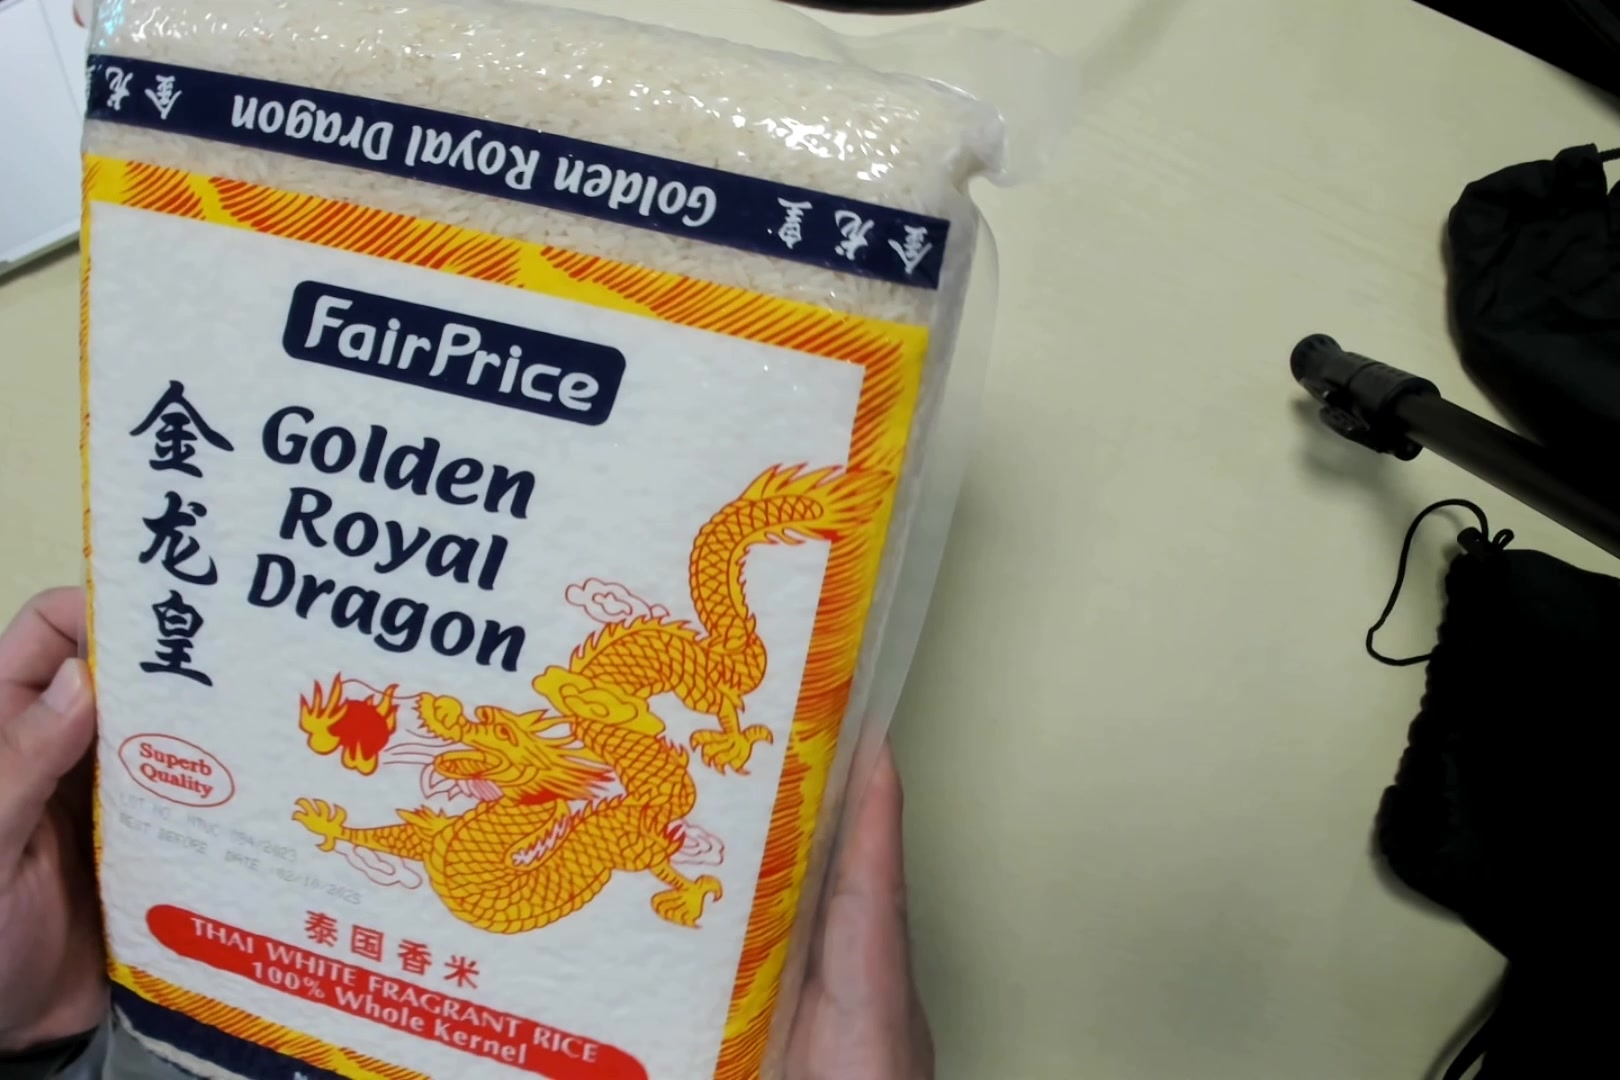Rice(White)_2000-2999g_NonHalal_NonHealthy: (88, 5, 990, 1080)
